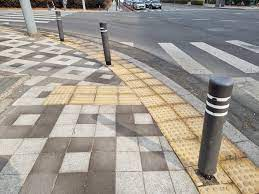guide_blocks: (173, 147, 257, 194), (45, 85, 141, 106), (147, 104, 198, 141), (88, 47, 111, 66), (58, 37, 86, 50)
